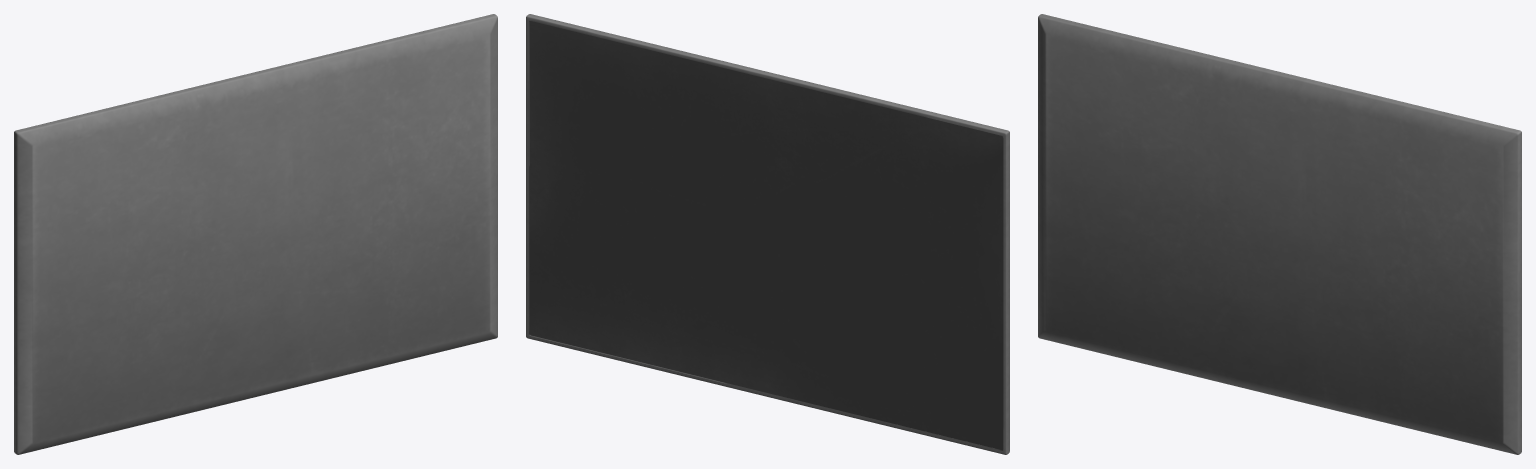
File: Tv 65 Inch.FBX
The picture shows the model from 3 angles, left to right: view 1: azimuth 30°, elevation 25°; view 2: azimuth 150°, elevation 25°; view 3: azimuth 330°, elevation 25°; orthographic projection.
Visible parts, largest first — view 1: TV 65 inch; view 2: TV 65 inch (×2); view 3: TV 65 inch.
Boxes of the visible parts, x1,y1,x2,y2 form: TV 65 inch: (14, 14, 497, 454); TV 65 inch (×2): (526, 14, 1009, 454); TV 65 inch: (1038, 14, 1521, 454).
Size of the model in its own units: 1.45 by 0.0382 by 0.9262.
